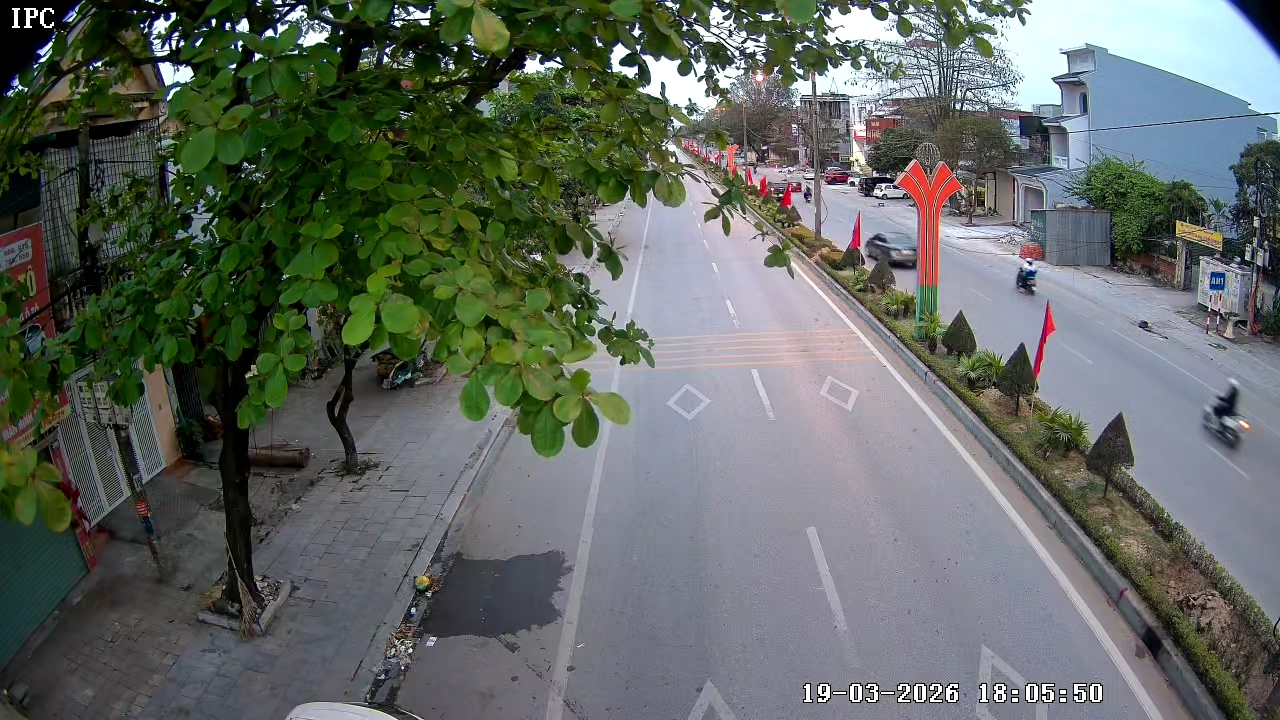motorbike: (1200, 376, 1253, 452), (1014, 257, 1040, 295)
